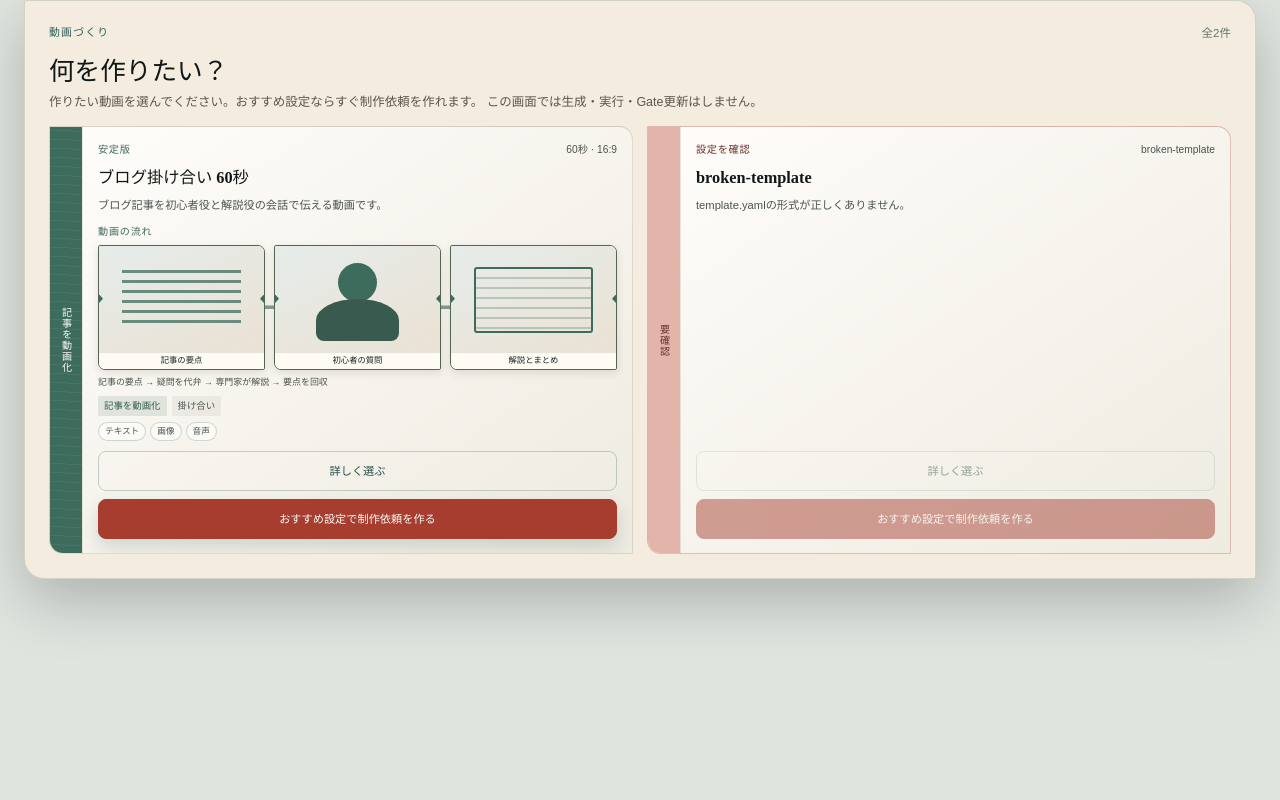
Test: TemplateShelf › 「おすすめのまま進む」で全軸デフォルトを確定しチェックリストへ進む
Click the button "詳しく選ぶ" below "テキスト".
click(358, 471)  # box [98, 451, 617, 491]
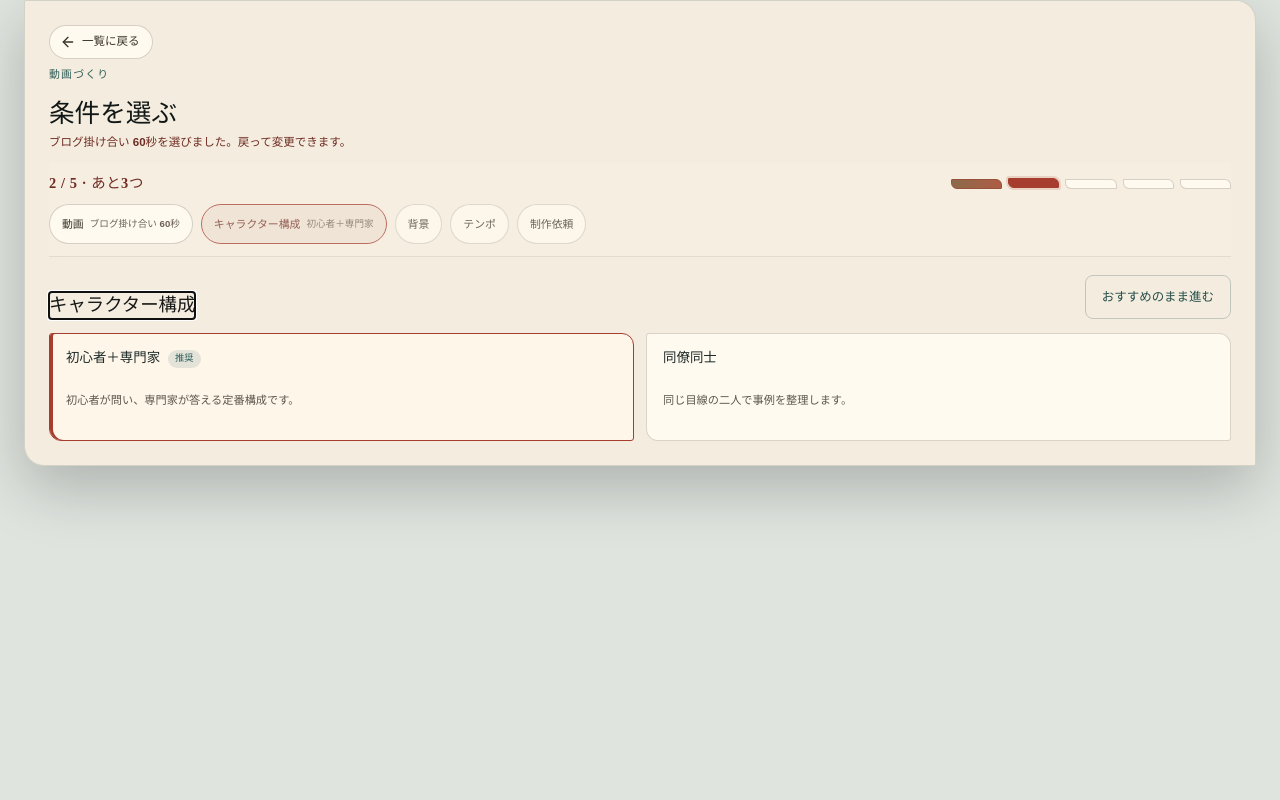
Expected: the heading "キャラクター構成" is shown, [49, 292, 195, 320]
Click the button "おすすめのまま進む".
click(1158, 298)  # box [1085, 276, 1231, 320]
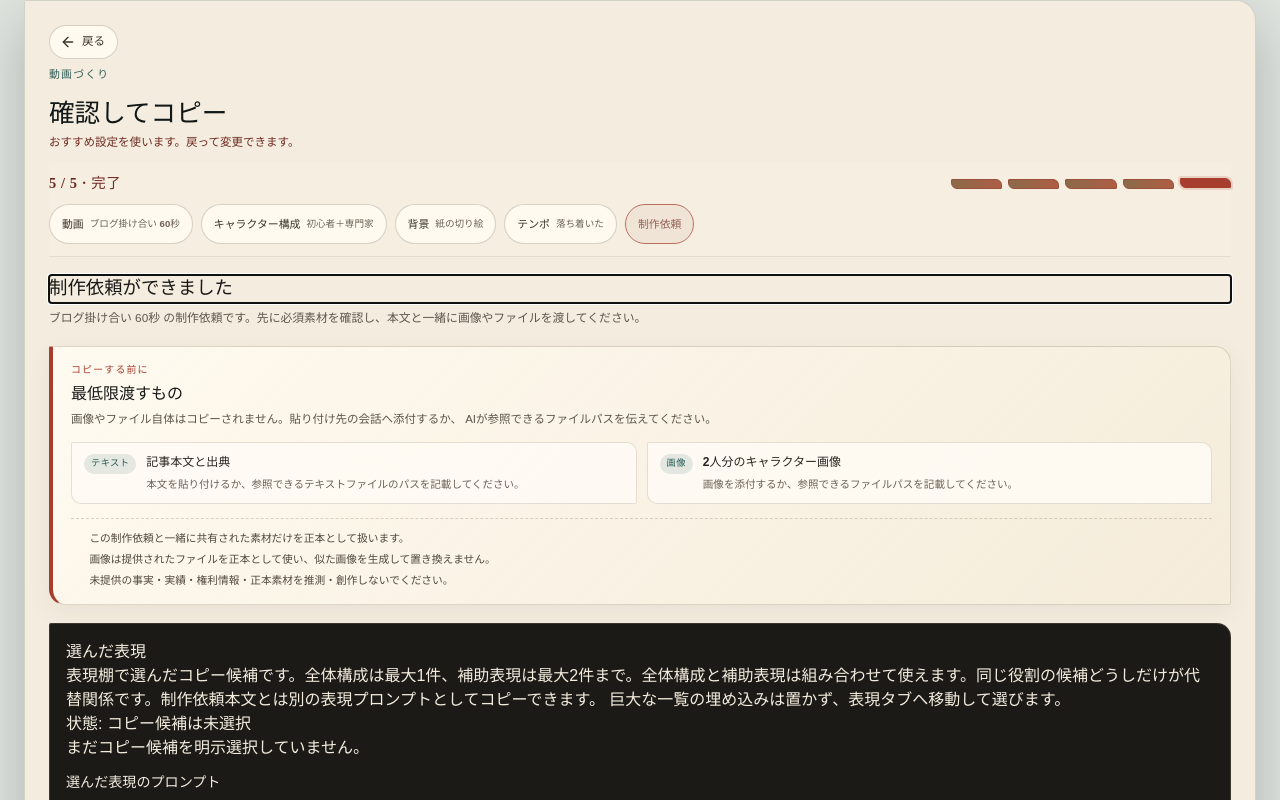
Expected: the heading "制作依頼ができました" is shown, [49, 278, 233, 298]
